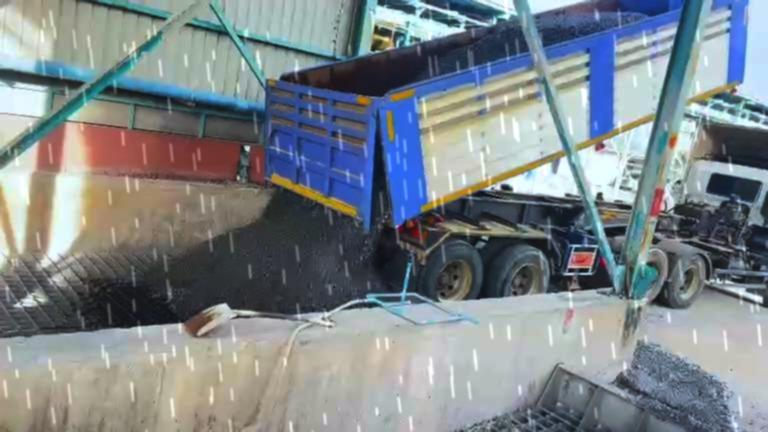gravel: (147, 191, 386, 318), (616, 342, 736, 431), (413, 20, 527, 81), (536, 12, 646, 46), (373, 149, 390, 235)
